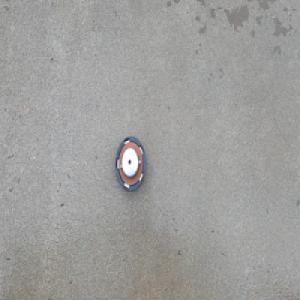FuelCap: (115, 136, 147, 194)
